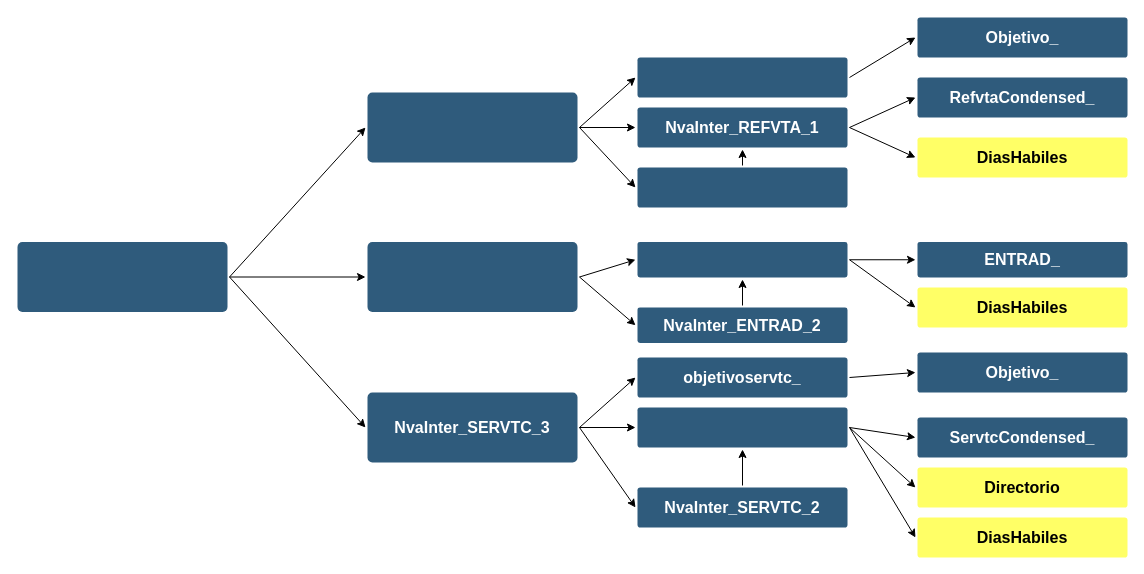
This 1144x574 diagram has some shape labels left out. Each missing label, with the box of its shape:
Interpolacion_Posventa: (17, 242, 227, 312)
NvaInter_ENTRAD_1: (637, 242, 847, 277)
NvaInter_ENTRAD_3: (367, 242, 577, 312)
NvaInter_REFVTA_2: (637, 167, 847, 207)
NvaInter_REFVTA_3: (367, 92, 577, 162)
NvaInter_SERVTC_1: (637, 407, 847, 447)
objetivorefvta_: (637, 57, 847, 97)
